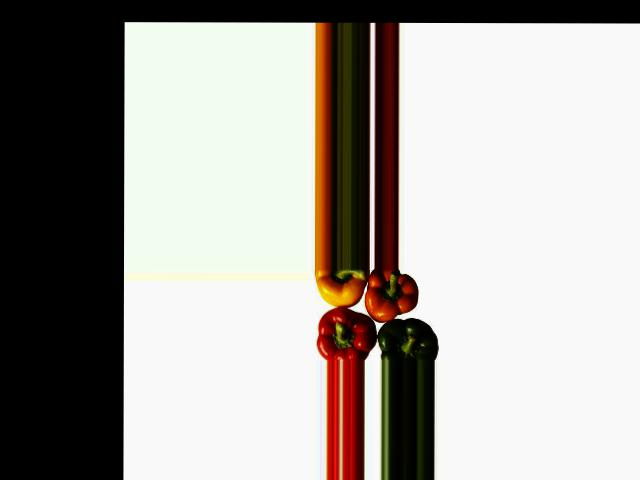bell_pepper: (313, 268, 372, 310)
